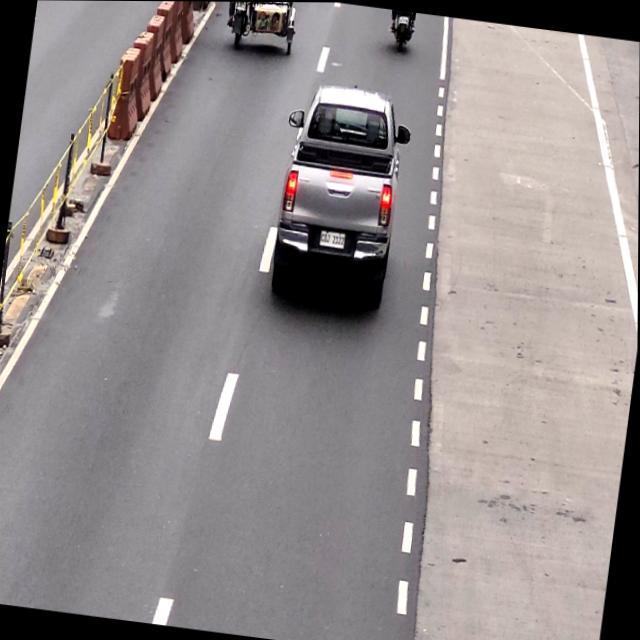Car: (270, 76, 411, 317)
License-Plate: (319, 227, 347, 252)
Motorcycle: (384, 9, 419, 57)
Tricycle: (223, 1, 297, 54)
